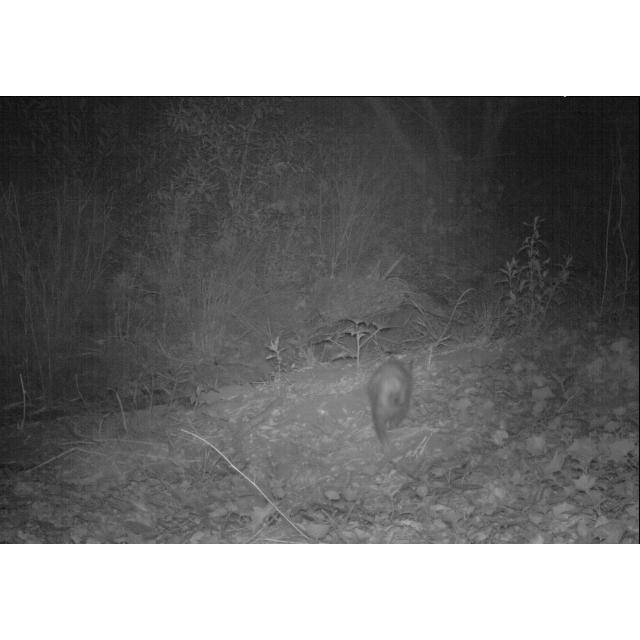animals: (364, 353, 418, 442)
